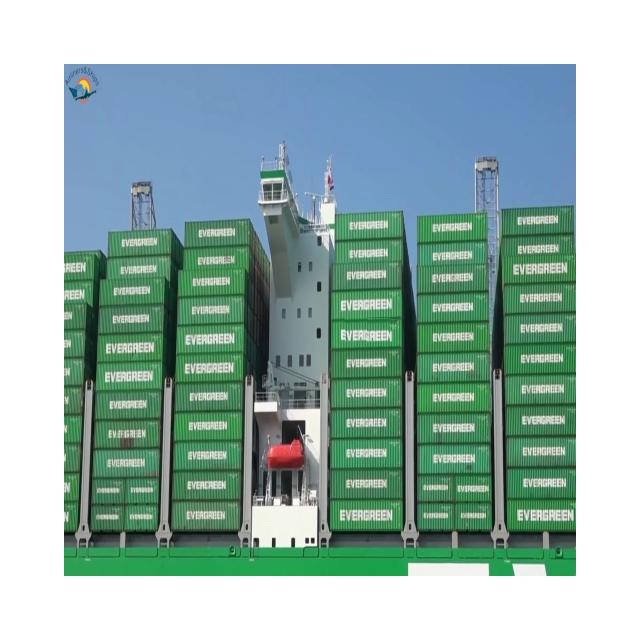OCR: (333, 316, 397, 343)
